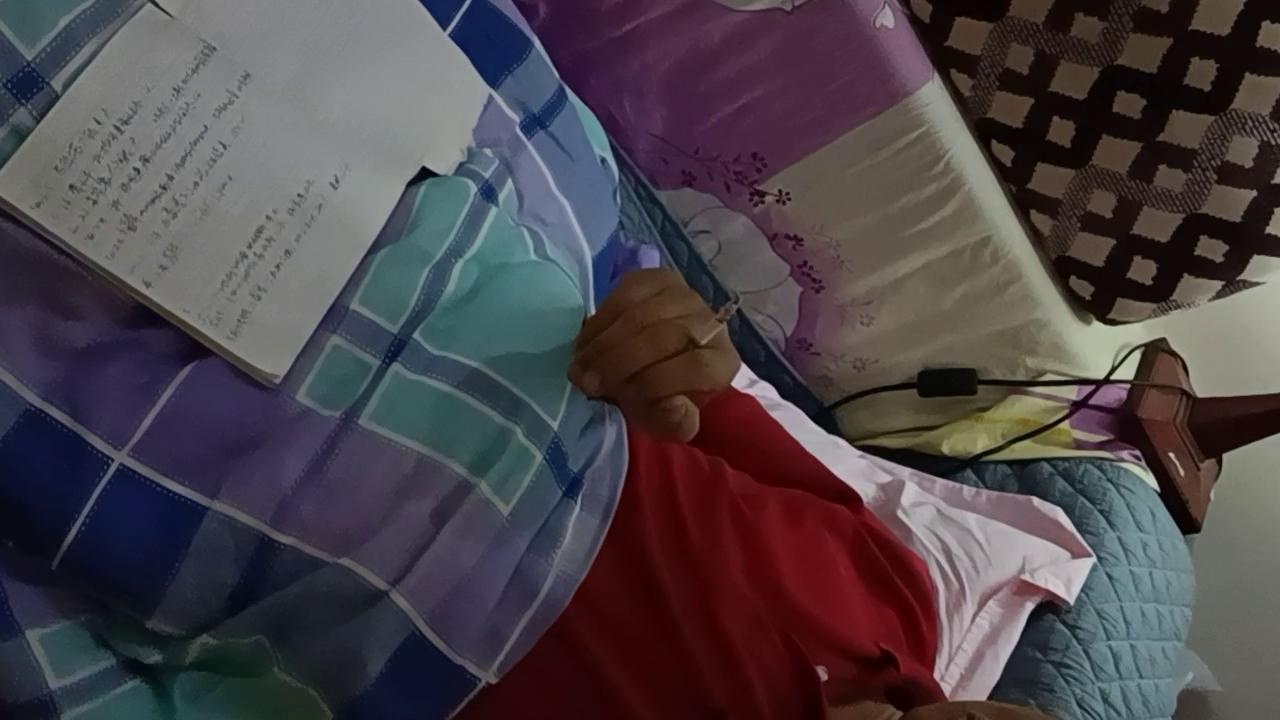smoke: (684, 302, 738, 356)
